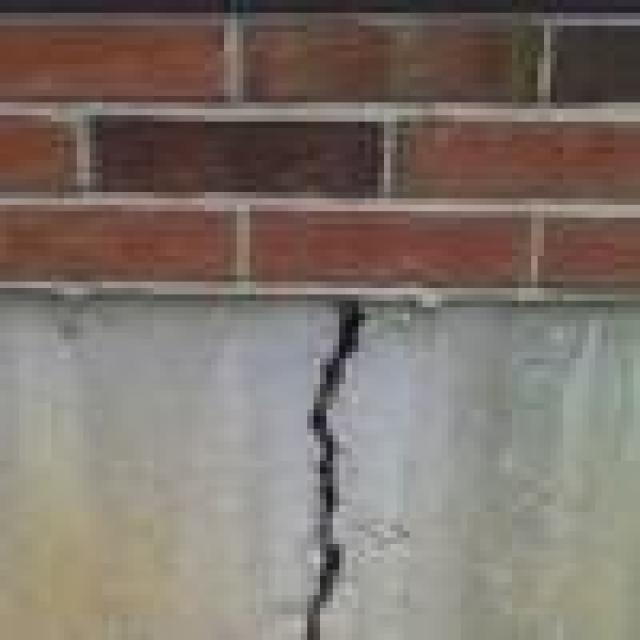Crack: (282, 294, 371, 634)
